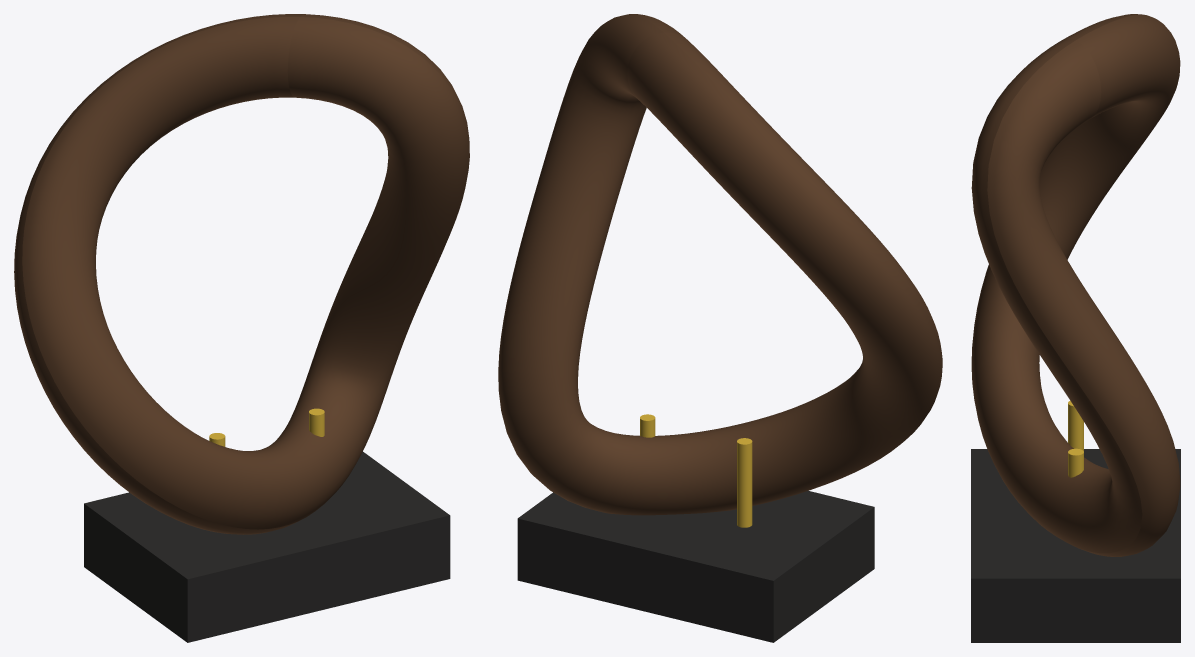
The model's file is wooden_sculpture.glb.
The picture shows the model from 3 angles, left to right: view 1: azimuth 30°, elevation 25°; view 2: azimuth 150°, elevation 25°; view 3: azimuth 270°, elevation 25°; orthographic projection. The views are drawn at different scales.
Size of the model in its own units: 1.51 by 1.89 by 0.65.
